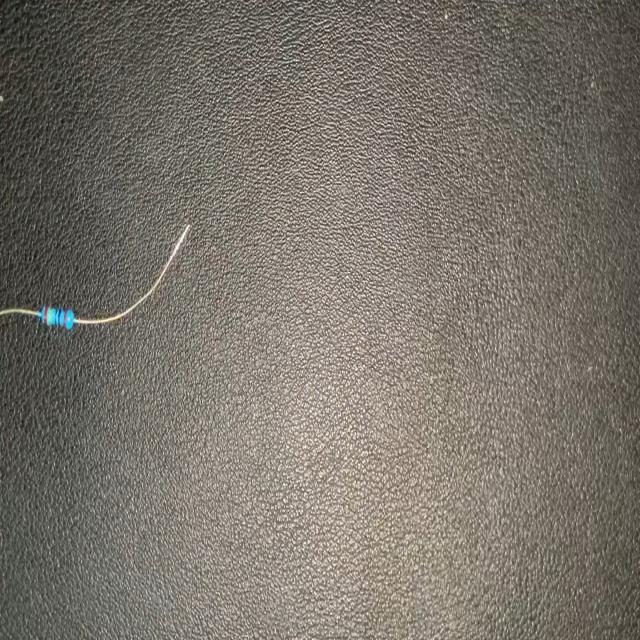resistor: (0, 227, 191, 334)
